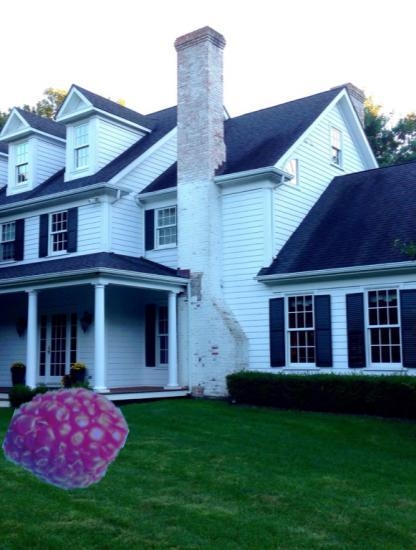Raspberry: (9, 379, 124, 494)
